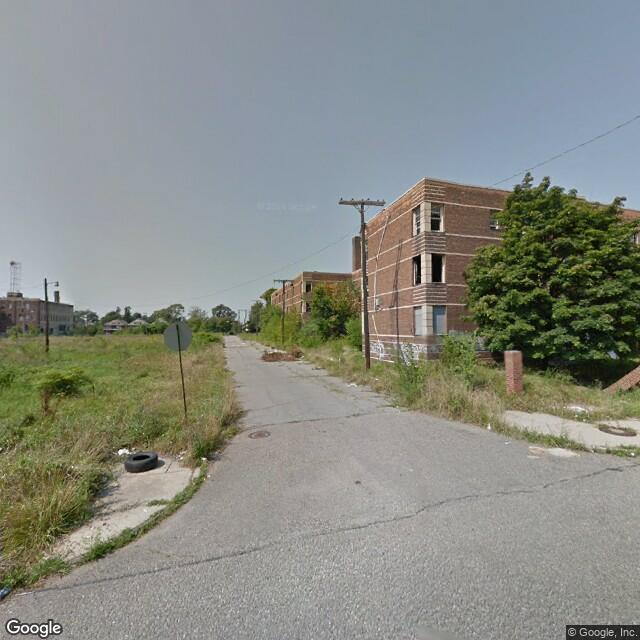litter: (124, 451, 159, 472), (344, 379, 358, 388), (117, 447, 129, 457), (486, 421, 494, 431), (201, 455, 210, 462), (630, 452, 636, 458)
